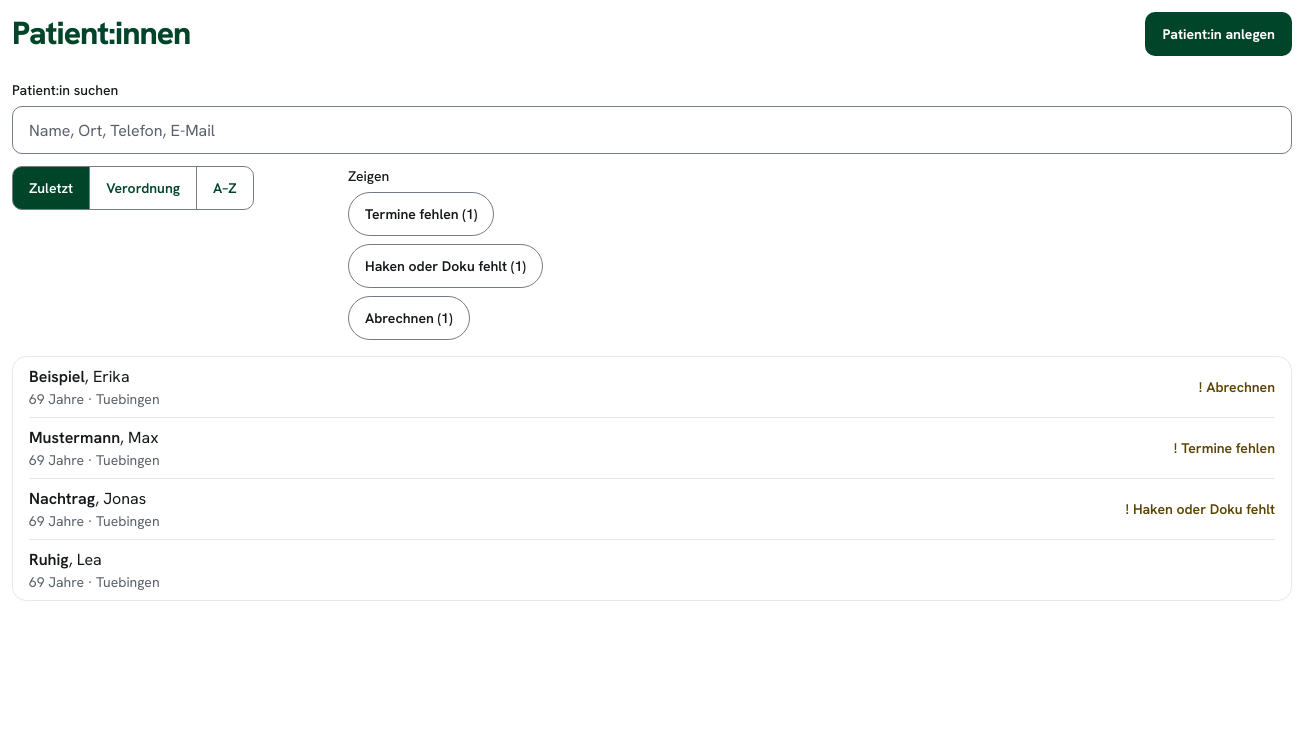
Test: PatientsListPage (B1, B10) › macht Karteileichen sichtbar: Auswahl mit Anzahl, Zeichen und Wort an der Zeile
Expected: the link "Mustermann, Max 69 Jahre · Tuebingen ! Termine fehlen" is shown, [13,418,1291,478]
Expected: the button "Termine fehlen (1)" is shown, [348,192,494,236]
Click the button "Abrechnen (1)" at (409, 318), box [348,296,470,340]
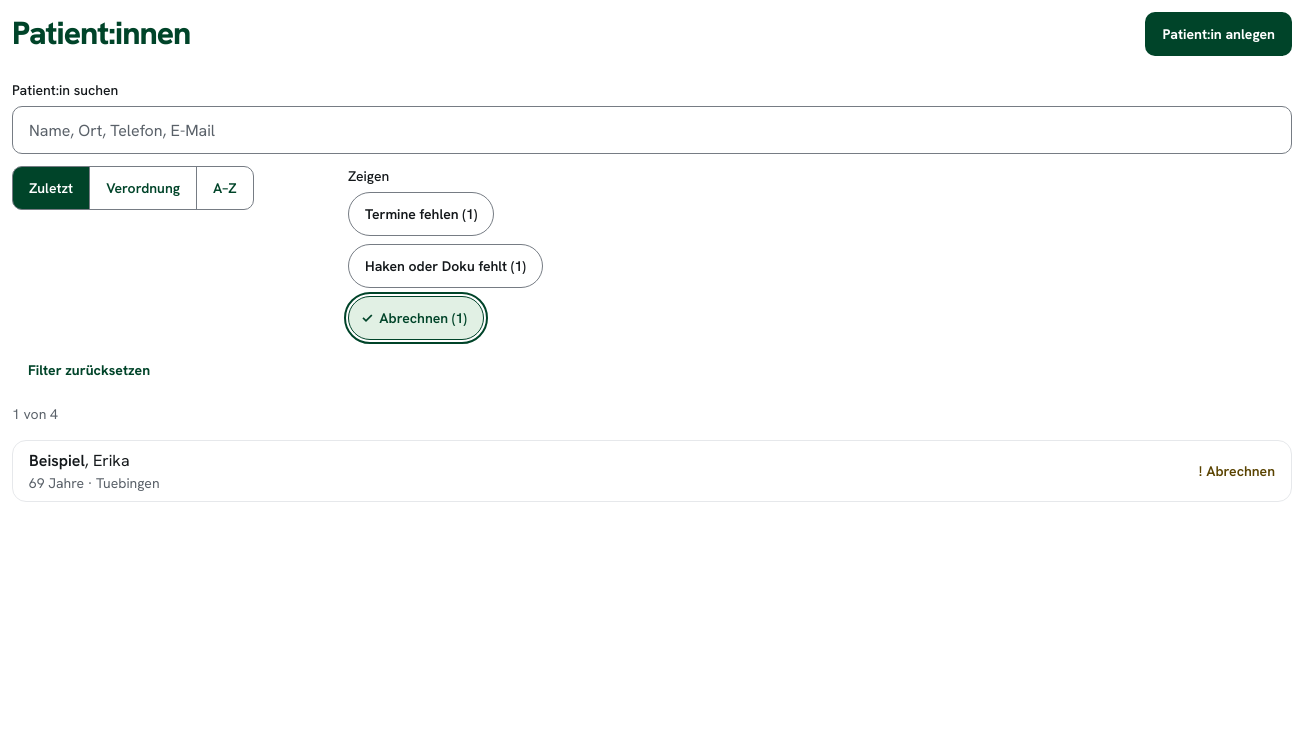
Expected: the link "Beispiel, Erika 69 Jahre · Tuebingen ! Abrechnen" is shown, [13,441,1291,501]
Expected: the link "Mustermann, Max" is gone
Expected: the link "Ruhig, Lea" is gone
